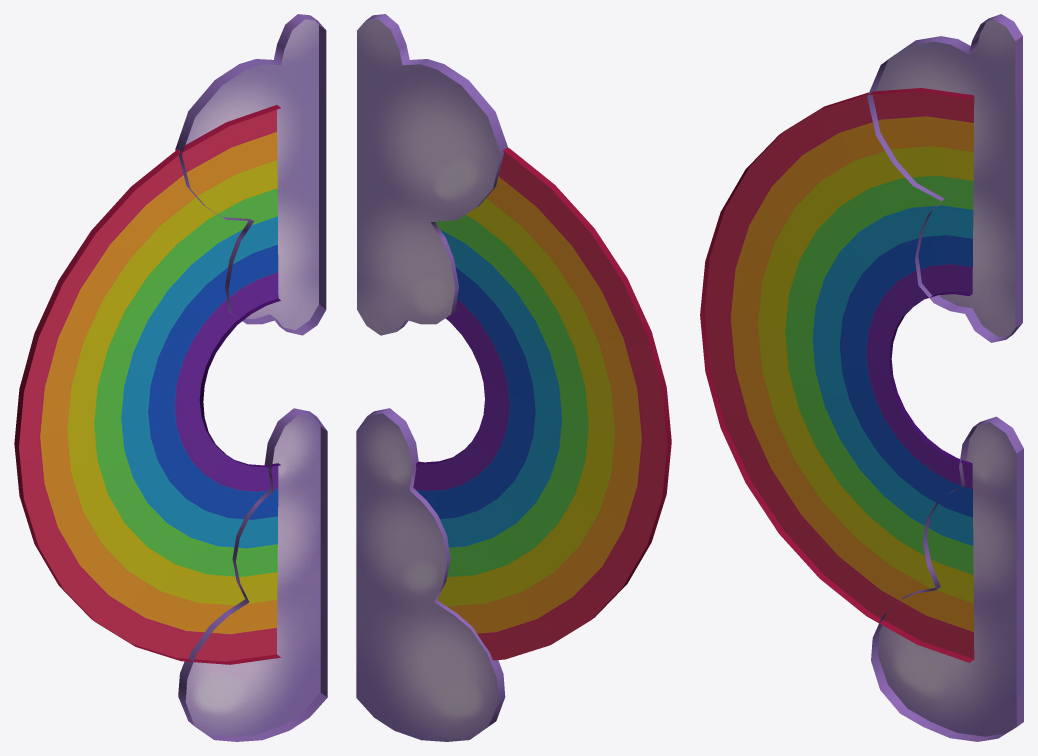
File: RainbowRug.fbx
The picture shows the model from 3 angles, left to right: view 1: azimuth 30°, elevation 25°; view 2: azimuth 150°, elevation 25°; view 3: azimuth 330°, elevation 25°; orthographic projection. The views are drawn at different scales.
Visible parts, largest first — view 1: RainbowRug; view 2: RainbowRug; view 3: RainbowRug.
Boxes of the visible parts, x1=… form: RainbowRug: x1=14, y1=14, x2=327, y2=741; RainbowRug: x1=356, y1=14, x2=671, y2=741; RainbowRug: x1=700, y1=14, x2=1023, y2=741.
Size of the model in its own units: 118 by 259 by 4.83.
